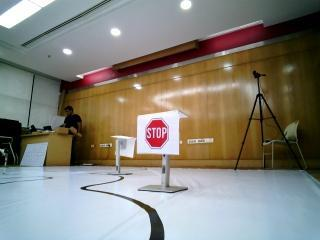stop: (139, 115, 187, 153)
